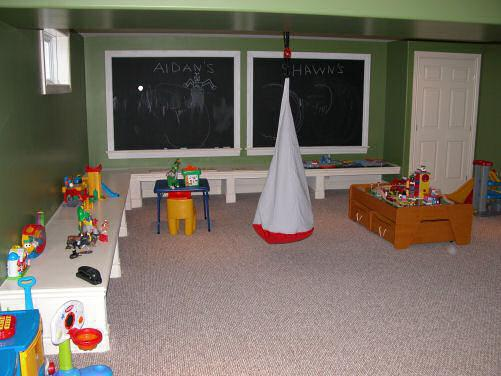Otro Obstaculo: (254, 31, 320, 250)
Puerta: (415, 47, 474, 192)
